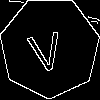V: (25, 22, 66, 74)
